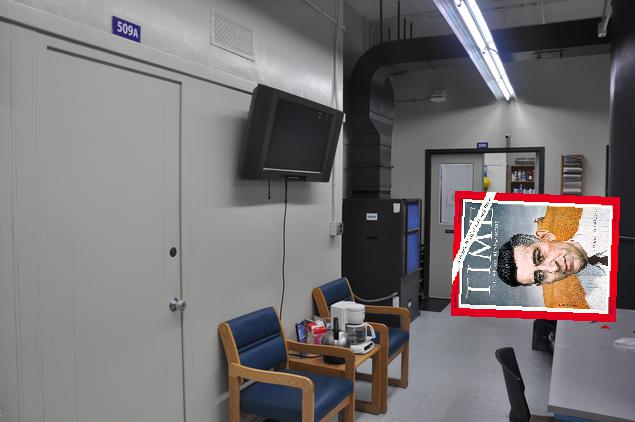times: (446, 186, 622, 322)
